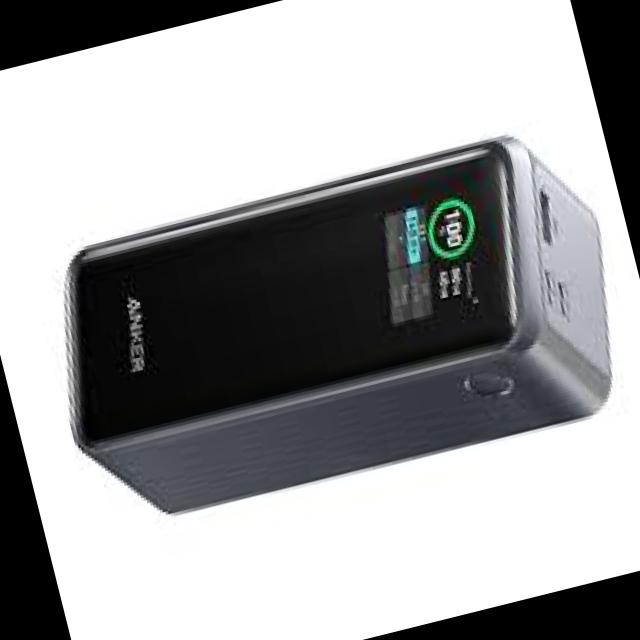portable-charger: (26, 111, 640, 543)
